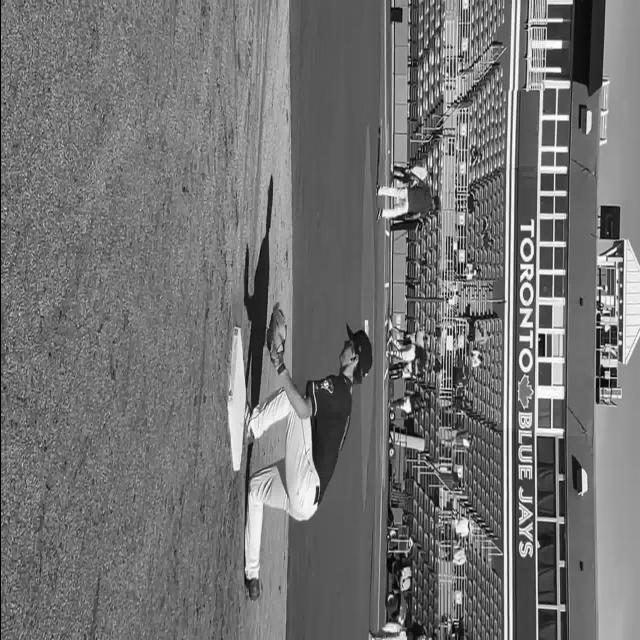base: (228, 326, 245, 478)
baseball_glove: (265, 302, 287, 375)
shoe: (242, 402, 254, 444), (244, 576, 260, 602), (376, 207, 382, 223), (375, 183, 379, 196)
